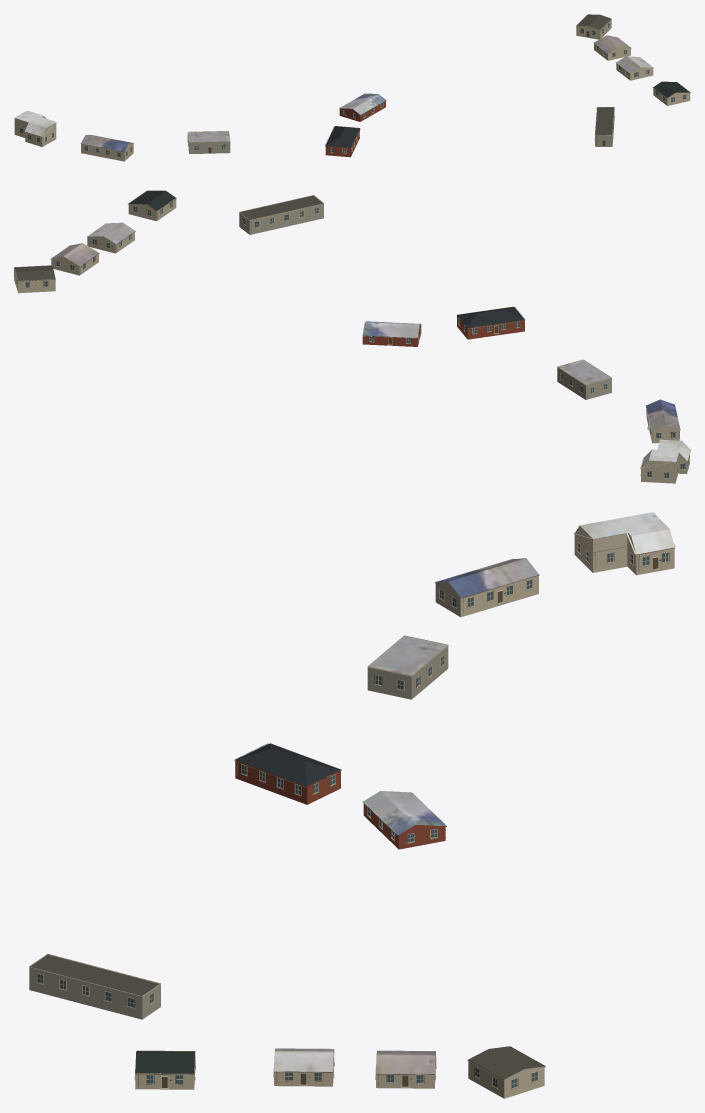
3 views of the same model, one above another, from view 1: azimuth 30°, elevation 25°; view 2: azimuth 150°, elevation 25°; view 3: azimuth 270°, elevation 25° (orthographic). The views are drawn at different scales.
Visible parts, largest first — view 1: 6_1_633774989_42, 6_1_633774991_43, 6_1_-9028881295_115, 6_1_633778039_78; view 2: 6_1_633774989_42, 6_1_633774991_43, 6_1_-9028881295_115, 6_1_633778039_78; view 3: 6_1_633774989_42, 6_1_633774991_43, 6_1_-9028881295_115, 6_1_633778039_78.
Part boxes in pixels (x1,y1,x2,y2): 6_1_633774989_42: [14, 14, 690, 161]; 6_1_633774991_43: [14, 35, 653, 151]; 6_1_-9028881295_115: [188, 116, 614, 154]; 6_1_633778039_78: [325, 101, 385, 157]; 6_1_633774989_42: [14, 190, 690, 483]; 6_1_633774991_43: [51, 222, 690, 468]; 6_1_-9028881295_115: [239, 204, 611, 399]; 6_1_633778039_78: [362, 315, 524, 346]; 6_1_633774989_42: [29, 525, 675, 1098]; 6_1_633774991_43: [274, 512, 675, 1074]; 6_1_-9028881295_115: [29, 646, 448, 1019]; 6_1_633778039_78: [235, 760, 445, 849].
Bounding box in the file's own units: 229 × 8.99 × 114.
13 materials, 1 textured.
